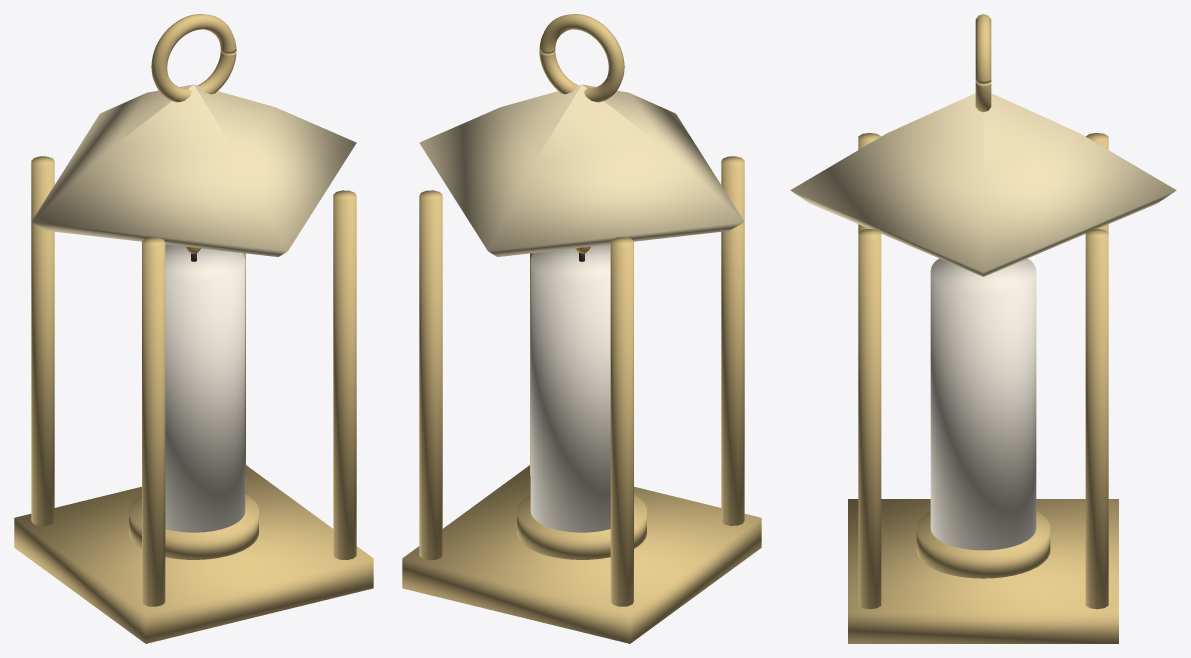
File: heritage-lantern.glb
3 renders of one model, left to right at view 1: azimuth 30°, elevation 25°; view 2: azimuth 150°, elevation 25°; view 3: azimuth 270°, elevation 25°, orthographic. The views are drawn at different scales.
Visible parts, largest first — view 1: roof-1, base-0, posts-2, wax-3, handle-6; view 2: roof-1, base-0, posts-2, wax-3, handle-6; view 3: roof-1, wax-3, base-0, posts-2, handle-6.
Part boxes in pixels (x1,y1,x2,y2): roof-1: [31, 84, 356, 256]; base-0: [14, 465, 373, 643]; posts-2: [31, 156, 356, 606]; wax-3: [165, 244, 245, 532]; handle-6: [151, 14, 236, 102]; roof-1: [419, 84, 744, 256]; base-0: [402, 465, 761, 643]; posts-2: [419, 156, 744, 606]; wax-3: [530, 244, 610, 532]; handle-6: [539, 14, 624, 102]; roof-1: [790, 93, 1176, 276]; wax-3: [930, 258, 1036, 550]; base-0: [848, 499, 1118, 643]; posts-2: [858, 133, 1108, 609]; handle-6: [975, 14, 991, 112].
Size of the model in its own units: 0.8 by 1.3 by 0.8.
